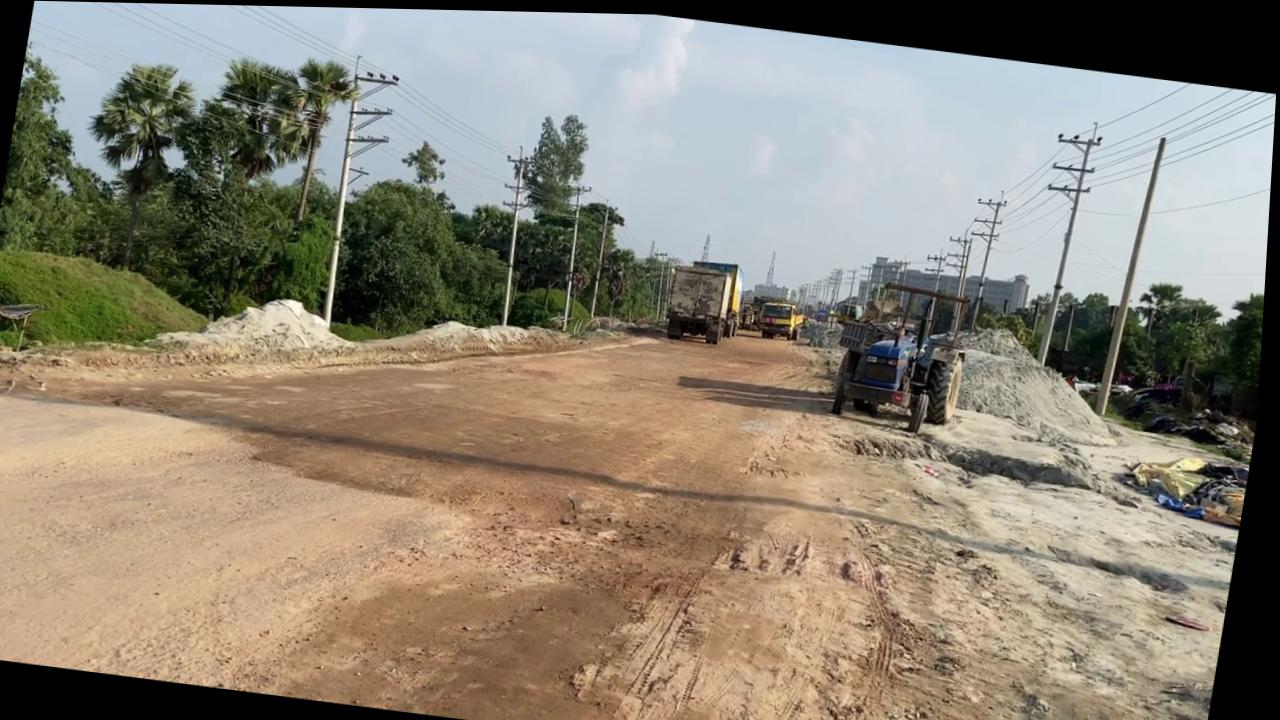Garbage: (1123, 441, 1255, 520)
Muddy road: (0, 228, 1269, 720)
Pole: (1098, 126, 1169, 412), (316, 52, 376, 327), (558, 180, 594, 329)
Traffic-sign: (164, 48, 318, 325), (67, 52, 203, 275), (266, 51, 365, 226)
Tree: (828, 270, 982, 434), (663, 251, 752, 343), (758, 294, 810, 338), (747, 289, 793, 330), (833, 294, 866, 324)
